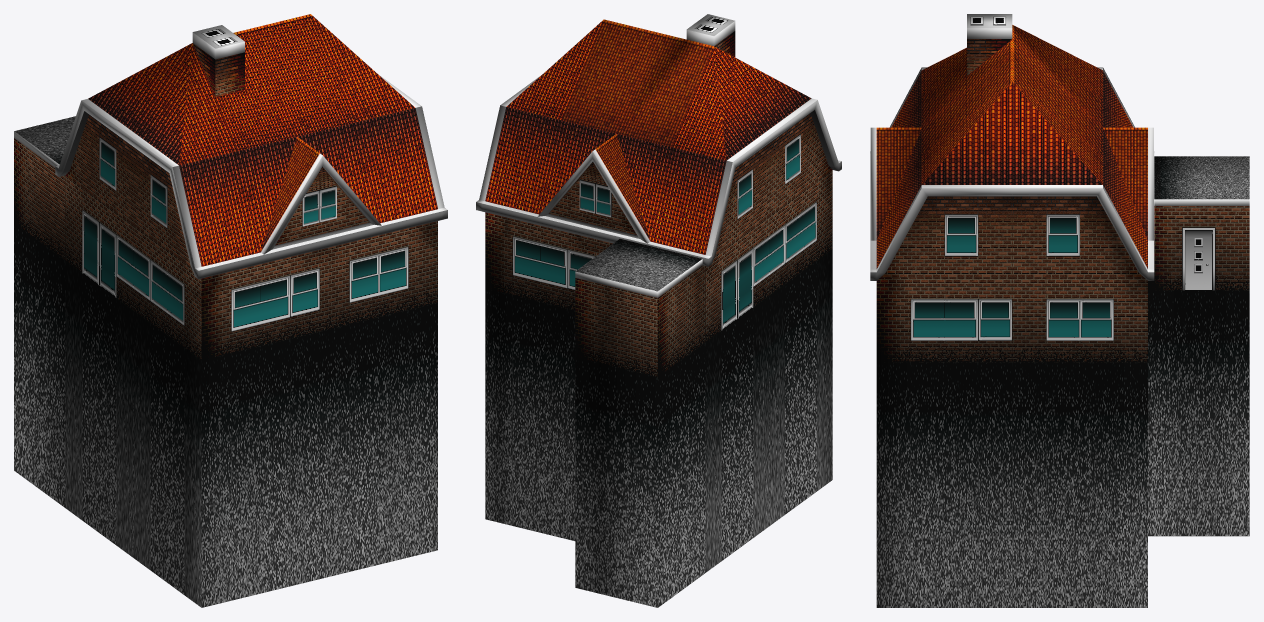
The model's file is zadeldak_mod1_1a.fbx.
3 views of the same model, side by side, from view 1: azimuth 30°, elevation 25°; view 2: azimuth 150°, elevation 25°; view 3: azimuth 270°, elevation 25° (orthographic). The views are drawn at different scales.
Visible parts, largest first — view 1: zadeldak_mod1_1a; view 2: zadeldak_mod1_1a; view 3: zadeldak_mod1_1a.
Boxes of the visible parts, <box> form: zadeldak_mod1_1a: <box>14,14,447,607</box>; zadeldak_mod1_1a: <box>476,14,841,607</box>; zadeldak_mod1_1a: <box>870,14,1249,607</box>.
Size of the model in its own units: 950 by 1861 by 1259.
